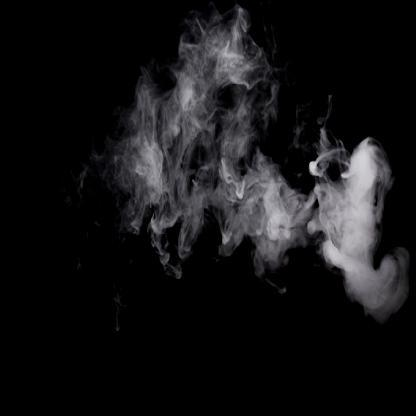smoke: (56, 124, 416, 325), (136, 10, 291, 126)
